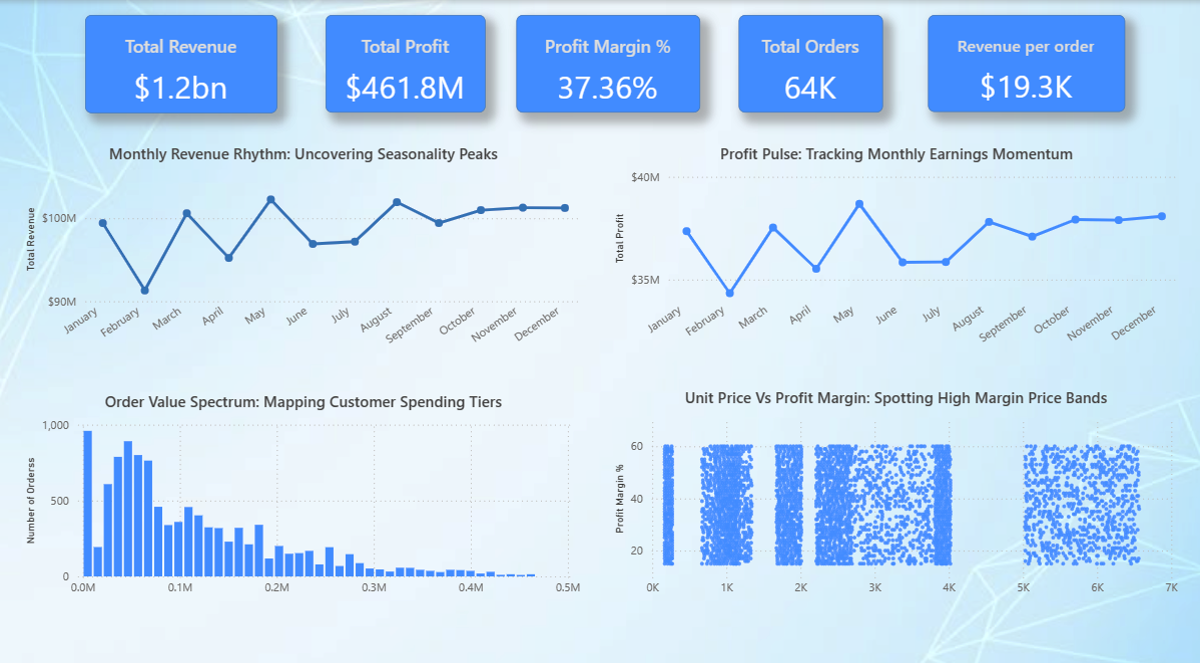

This screenshot's page, from the dashboard's own definition file:
{"tool":"powerbi","page":{"name":"Overview","canvas":[1280,720],"ordinal":0},"visuals":[{"type":"cardVisual","fields":{"Data":["Measures_.Total Revenue"]},"box":[95.4,15.9,203.6,105],"z":0},{"type":"cardVisual","fields":{"Data":["Measures_.Total Profit"]},"box":[349.6,15.2,169.2,103.8],"z":1000},{"type":"cardVisual","fields":{"Data":["Measures_.Profit Margin %"]},"box":[552.1,15.2,194.9,103.8],"z":2000},{"type":"cardVisual","fields":{"Data":["Measures_.Total Orders"]},"box":[786.7,15.2,152.6,103.8],"z":3000},{"type":"cardVisual","fields":{"Data":["Measures_.Revenue per order"]},"box":[987.8,15.9,208.4,103.4],"z":4000},{"type":"lineChart","title":"Monthly Revenue Rhythm: Uncovering Seasonality Peaks","fields":{"Category":["Sales_data.order_month_name"],"Y":["Measures_.Total Revenue"]},"box":[27,152.1,598.7,235.9],"z":5000},{"type":"lineChart","title":"Profit Pulse: Tracking Monthly Earnings Momentum","fields":{"Category":["Sales_data.order_month_name"],"Y":["Measures_.Total Profit"]},"box":[650.1,153.4,607.7,234.6],"z":6000},{"type":"scatterChart","title":"Unit Price Vs Profit Margin: Spotting High Margin Price Bands","fields":{"X":["Sales_data.unit_price"],"Y":["Sales_data.profit_margin_pct"]},"box":[650.1,412.3,606.4,232.1],"z":7000},{"type":"columnChart","title":"Order Value Spectrum: Mapping Customer Spending Tiers","fields":{"Category":["Order_Value_Distribution.OrderValue (bins)"],"Y":["CountNonNull(Order_Value_Distribution.order_number)"]},"box":[27,417.4,598.7,226.9],"z":8000}]}

Visuals, with their boxes in screenshot pixels (x1, y1, x2, y2), scaled from the page's 1280x720 canvas onto the 1200x663 screenshot:
cardVisual - Measures_.Total Revenue: 89,15,280,111
cardVisual - Measures_.Total Profit: 328,14,486,110
cardVisual - Measures_.Profit Margin %: 518,14,700,110
cardVisual - Measures_.Total Orders: 738,14,881,110
cardVisual - Measures_.Revenue per order: 926,15,1121,110
"Monthly Revenue Rhythm: Uncovering Seasonality Peaks" lineChart: 25,140,587,357
"Profit Pulse: Tracking Monthly Earnings Momentum" lineChart: 609,141,1179,357
"Unit Price Vs Profit Margin: Spotting High Margin Price Bands" scatterChart: 609,380,1178,593
"Order Value Spectrum: Mapping Customer Spending Tiers" columnChart: 25,384,587,593
